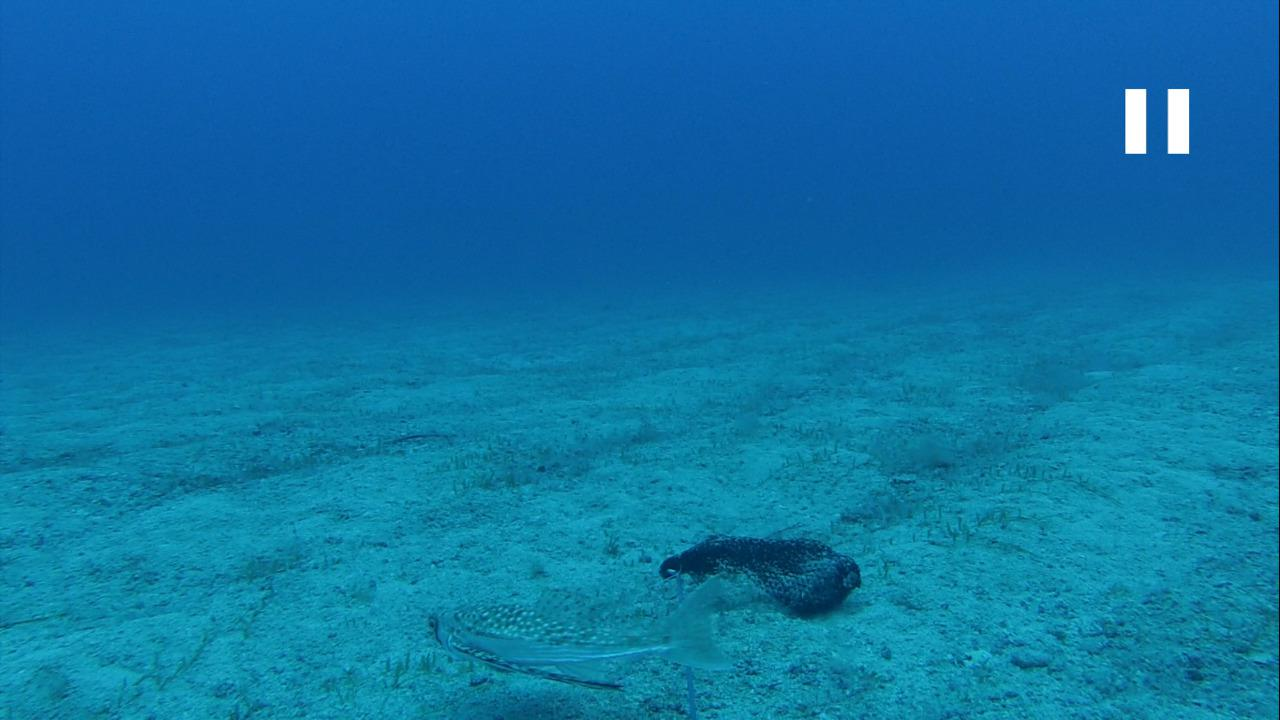dactylopterus: (411, 575, 742, 707)
